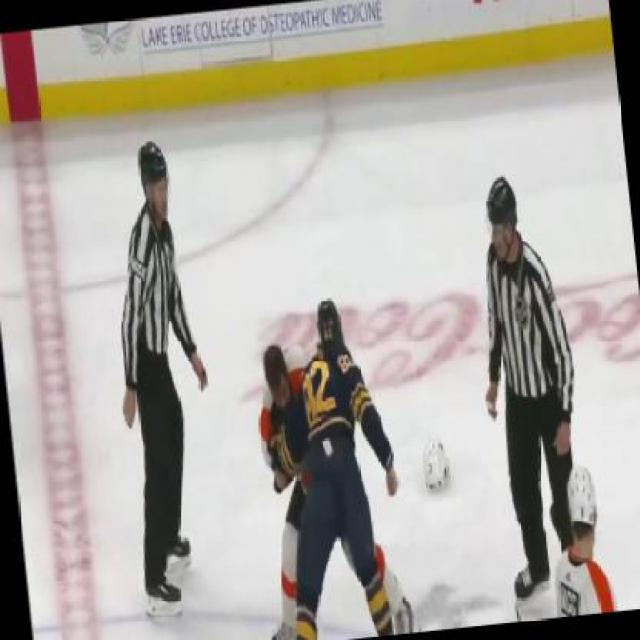fight: (243, 292, 414, 638)
non-fight: (97, 136, 234, 622), (460, 157, 598, 611)
